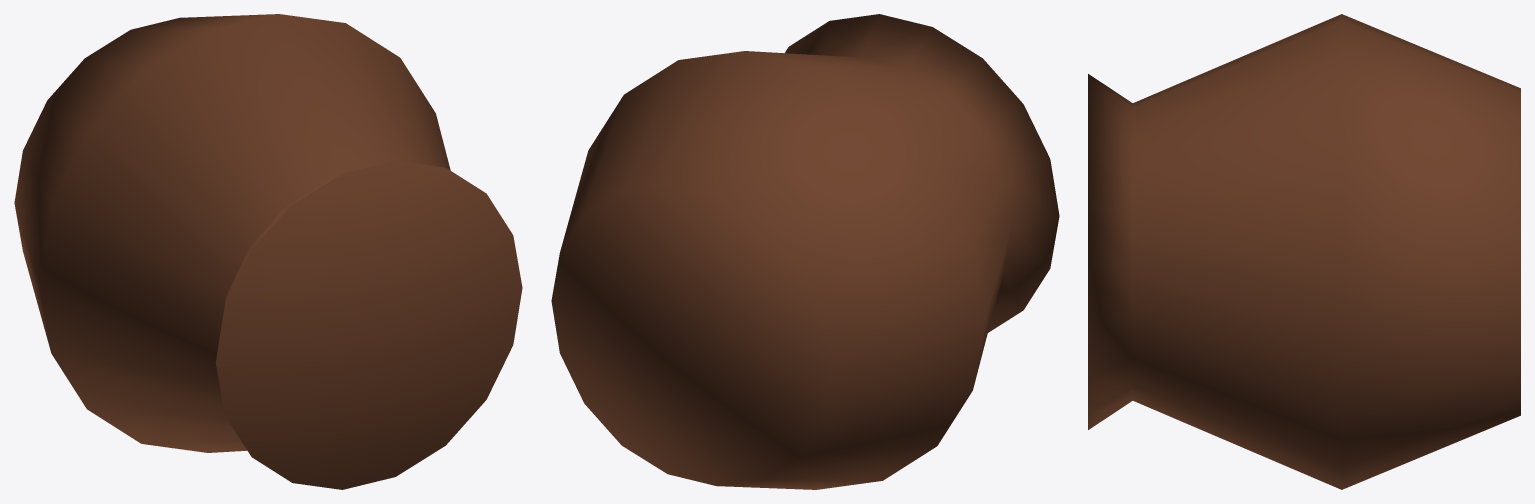
File: PROP_POT_SMALL.obj
3 renders of one model, left to right at view 1: azimuth 30°, elevation 25°; view 2: azimuth 150°, elevation 25°; view 3: azimuth 270°, elevation 25°, orthographic.
Parts seen in each view (by area): view 1: PROP_POT_SMALL; view 2: PROP_POT_SMALL; view 3: PROP_POT_SMALL.
Boxes of the visible parts, <box> form: PROP_POT_SMALL: <box>14,14,522,489</box>; PROP_POT_SMALL: <box>551,14,1059,489</box>; PROP_POT_SMALL: <box>1088,14,1520,489</box>.
Size of the model in its own units: 0.32 by 0.3152 by 0.29.
